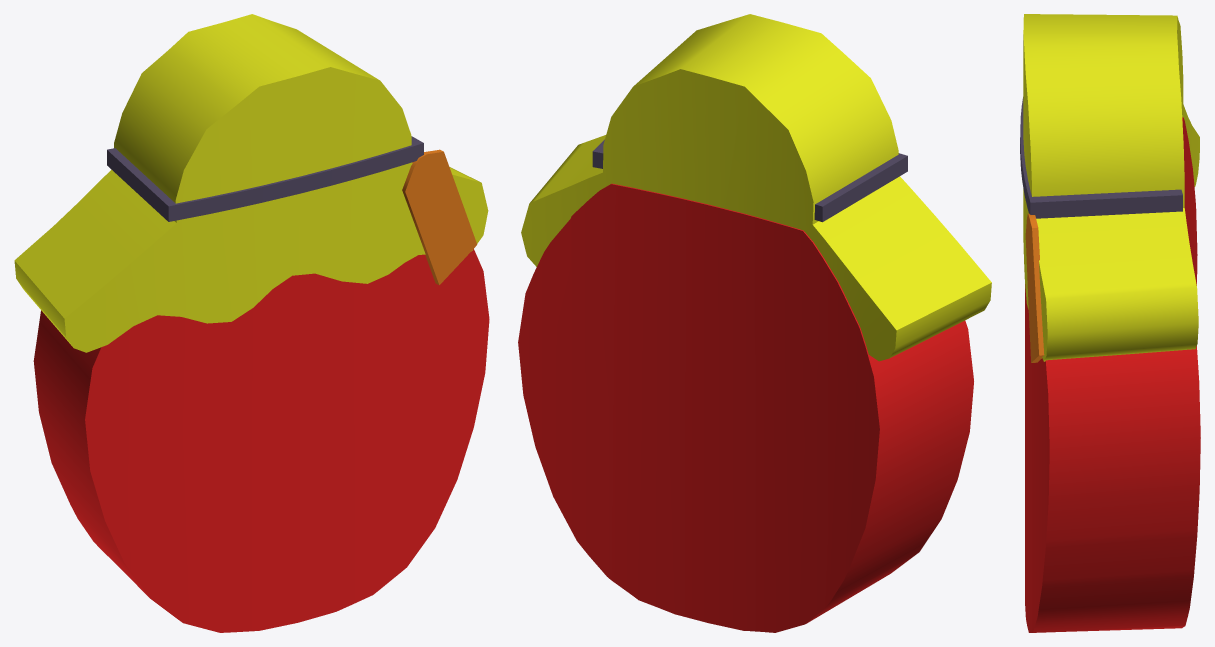
Rendered from JamJar_Inner.fbx.
The picture shows the model from 3 angles, left to right: view 1: azimuth 30°, elevation 25°; view 2: azimuth 150°, elevation 25°; view 3: azimuth 270°, elevation 25°; orthographic projection. The views are drawn at different scales.
Parts seen in each view (by area): view 1: JamJar_Inner; view 2: JamJar_Inner; view 3: JamJar_Inner.
Part boxes in pixels (box(x1,y1,x2,y2)): JamJar_Inner: box(14, 14, 489, 632); JamJar_Inner: box(518, 14, 991, 632); JamJar_Inner: box(1020, 14, 1200, 632).
Size of the model in its own units: 25.49 by 31.38 by 9.02.
